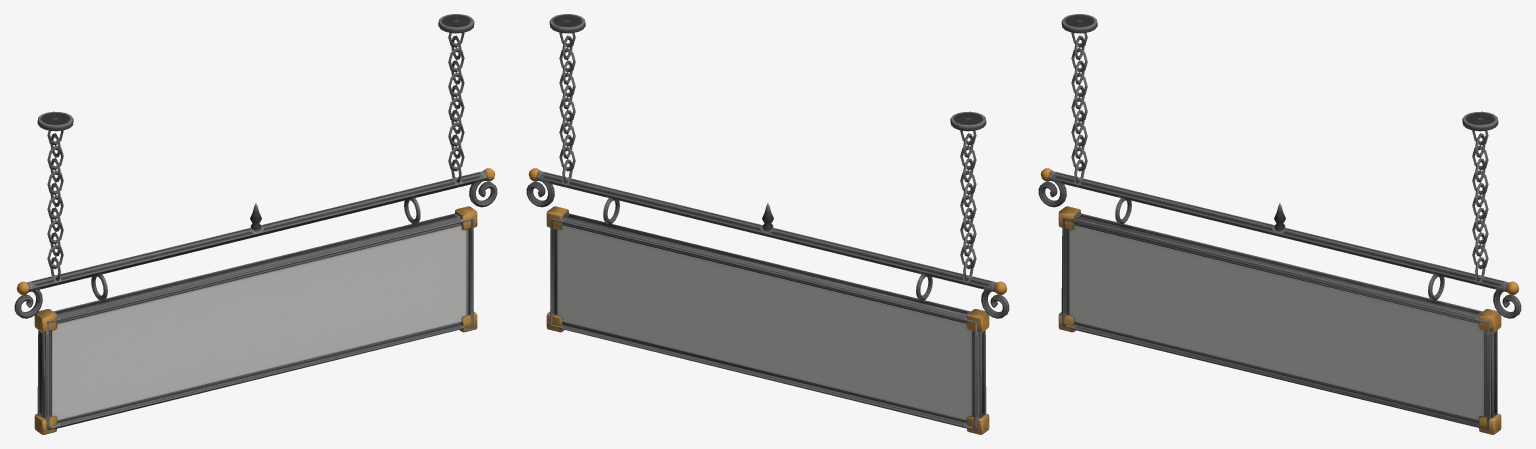
The model's file is CorridorSign.fbx.
3 views of the same model, side by side, from view 1: azimuth 30°, elevation 25°; view 2: azimuth 150°, elevation 25°; view 3: azimuth 330°, elevation 25° (orthographic).
Parts seen in each view (by area): view 1: CorridorSign_Field, CorridorSign_Main; view 2: CorridorSign_Field, CorridorSign_Main; view 3: CorridorSign_Field, CorridorSign_Main.
Boxes of the visible parts, <box> form: CorridorSign_Field: <box>51,225,466,420</box>; CorridorSign_Main: <box>14,14,497,434</box>; CorridorSign_Field: <box>557,225,972,420</box>; CorridorSign_Main: <box>526,14,1009,434</box>; CorridorSign_Field: <box>1069,225,1484,420</box>; CorridorSign_Main: <box>1038,14,1521,434</box>.
Size of the model in its own units: 492 by 303 by 32.
